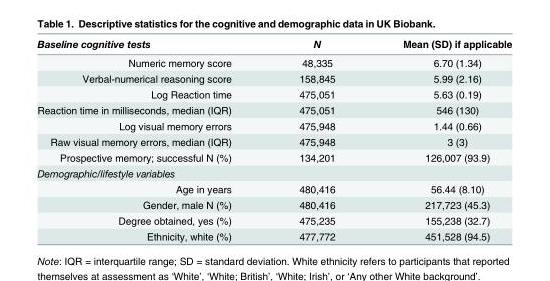table: (36, 37, 511, 241)
table column: (36, 37, 264, 241), (368, 37, 511, 241), (264, 37, 368, 241)
table column header: (36, 37, 511, 53)
table projected row header: (36, 164, 511, 180)
table row: (36, 53, 511, 70), (36, 37, 511, 53), (36, 70, 511, 86), (36, 101, 511, 117), (36, 117, 511, 133), (36, 133, 511, 149), (36, 164, 511, 180), (36, 180, 511, 196), (36, 196, 511, 212), (36, 212, 511, 228), (36, 86, 511, 101), (36, 149, 511, 164), (36, 228, 511, 241)
